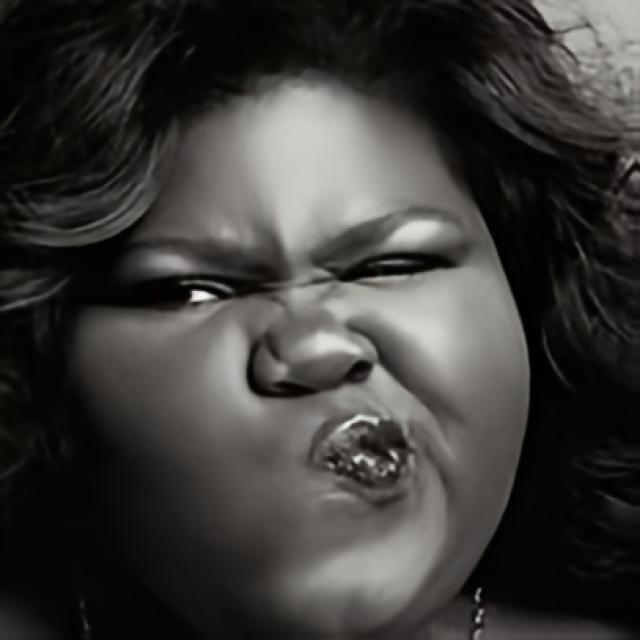disgust: (65, 52, 532, 640)
